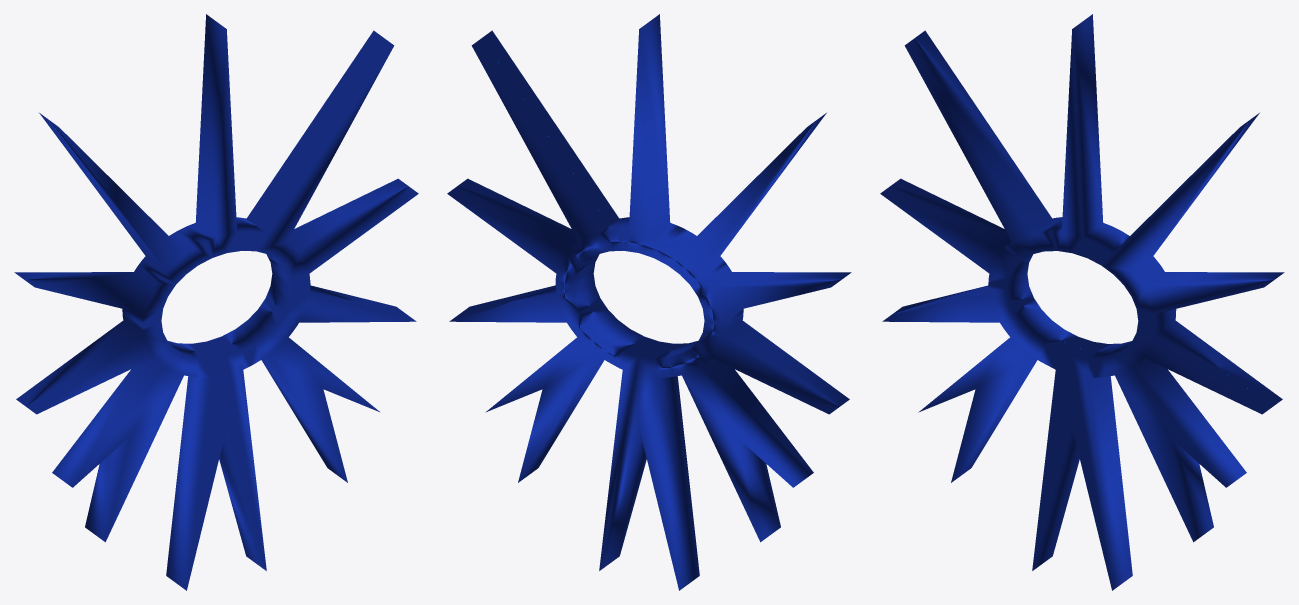
File: koforochi.ico.obj
3 renders of one model, left to right at view 1: azimuth 30°, elevation 25°; view 2: azimuth 150°, elevation 25°; view 3: azimuth 330°, elevation 25°, orthographic.
Bounding box in the file's own units: 3.5 × 4.8 × 0.3262.
1 material, 1 textured.
